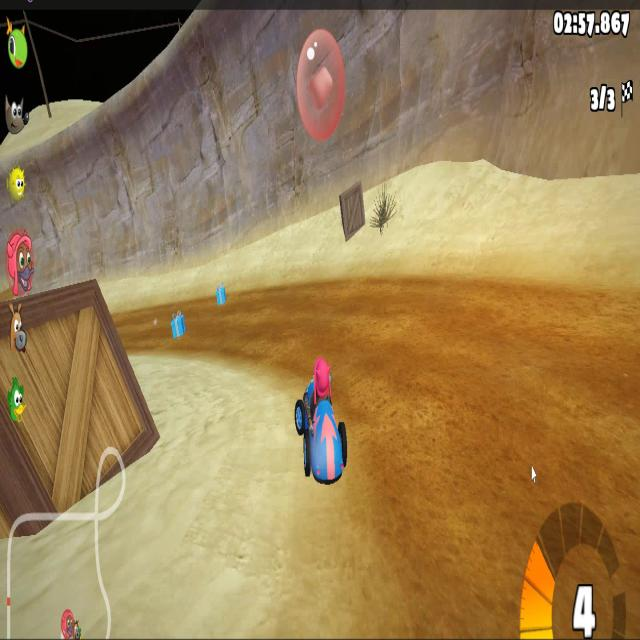player_kart: (290, 348, 350, 488)
